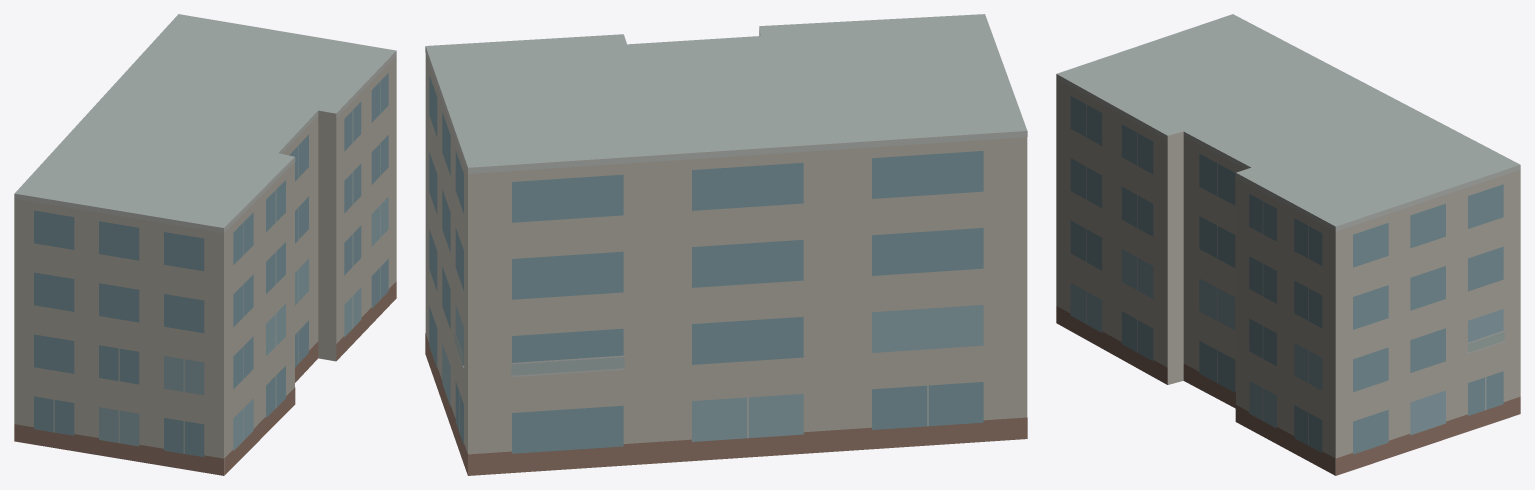
The model's file is survey-upis-32677881.glb.
3 renders of one model, left to right at view 1: azimuth 30°, elevation 25°; view 2: azimuth 150°, elevation 25°; view 3: azimuth 270°, elevation 25°, orthographic. The views are drawn at different scales.
Parts seen in each view (by area): view 1: survey-upis-32677881.tmp; view 2: survey-upis-32677881.tmp; view 3: survey-upis-32677881.tmp.
Part boxes in pixels (box(x1,y1,x2,y2)): survey-upis-32677881.tmp: box(14, 14, 396, 475); survey-upis-32677881.tmp: box(425, 14, 1027, 475); survey-upis-32677881.tmp: box(1056, 14, 1520, 475).
Size of the model in its own units: 22.33 by 12.2 by 20.6.
